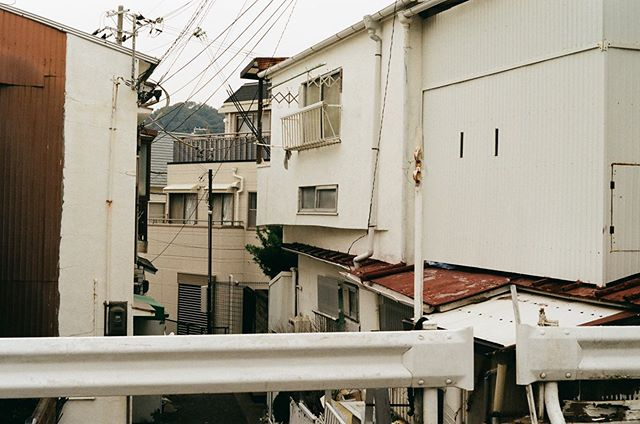building: (418, 7, 640, 424), (1, 4, 142, 424), (271, 1, 406, 424), (142, 128, 270, 350)
